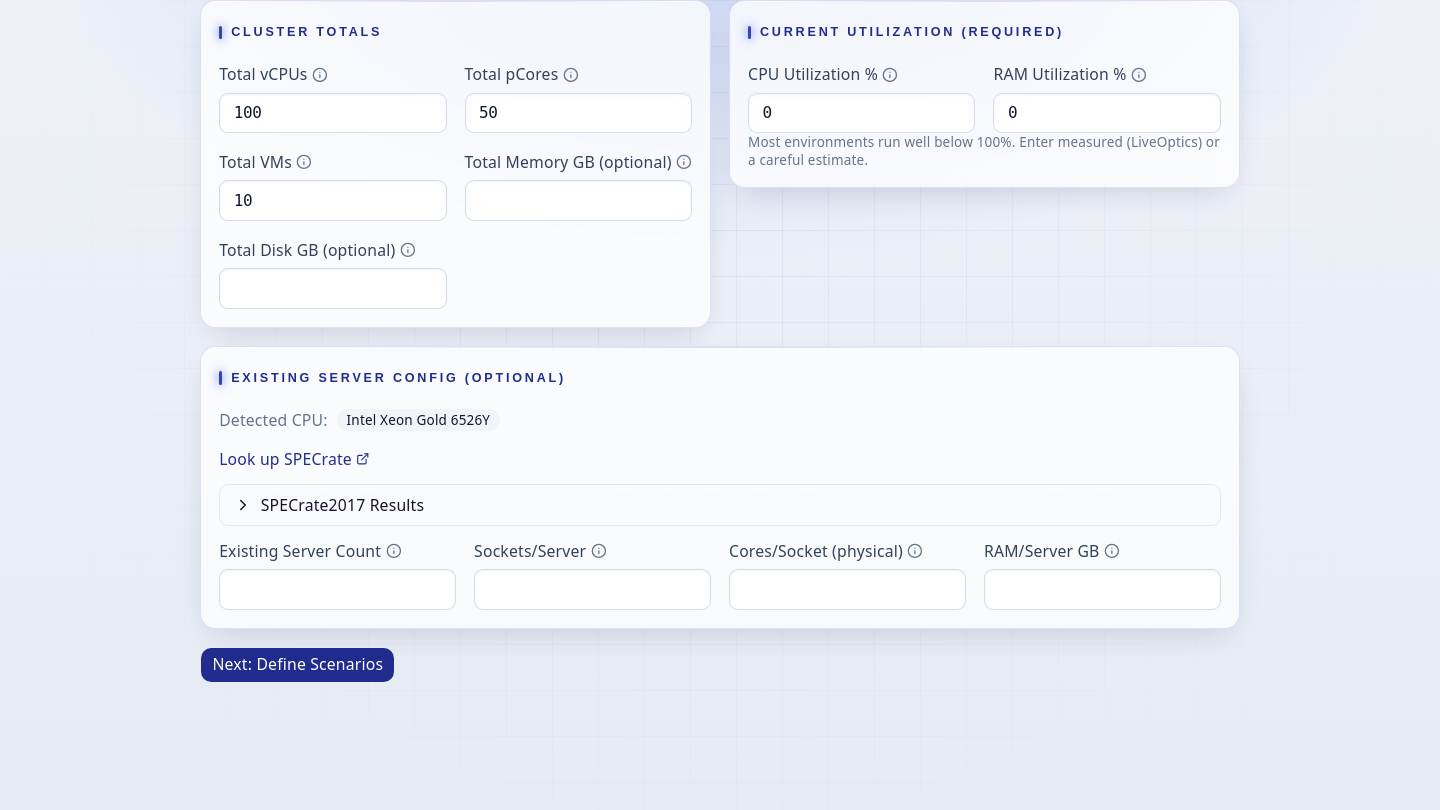
Test case: SPEC-LOOKUP: integrated SpecResultsPanel › shows results table when panel is expanded
Note: Expand the panel
Click the button "SPECrate2017 Results".
click(342, 505)  # box left=220, top=485, right=1220, bottom=525
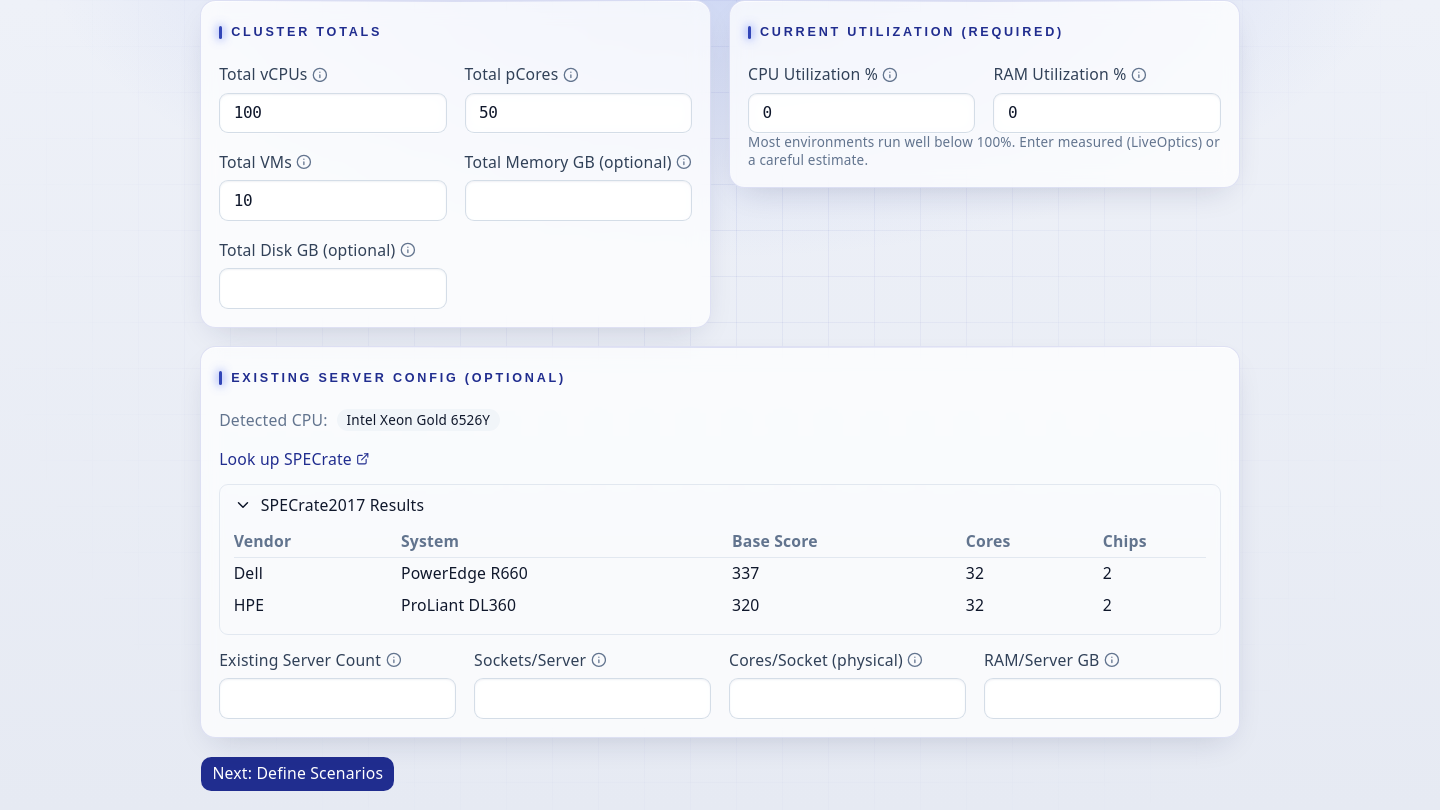
Result: the text "Dell" is shown at left=234, top=557, right=401, bottom=589
Result: the text "PowerEdge R660" is shown at left=401, top=557, right=732, bottom=589
Result: the text "337" is shown at left=732, top=557, right=966, bottom=589
